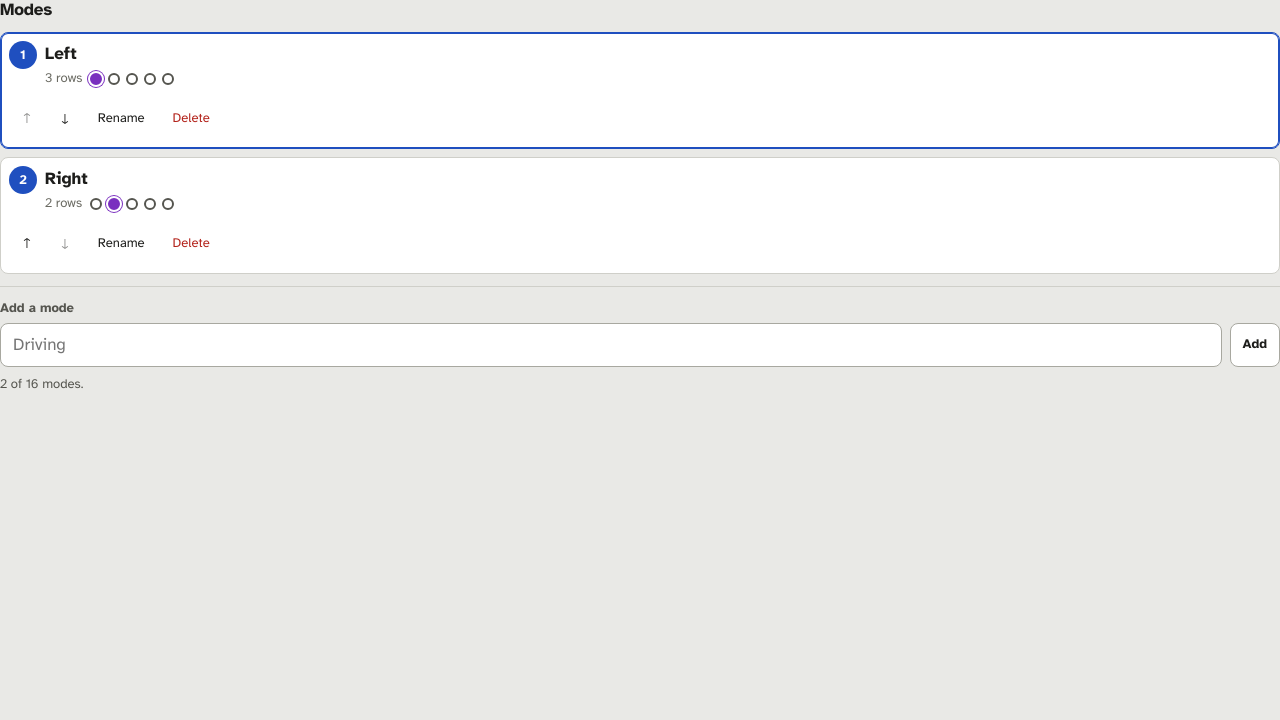
Test: ModeRail › asks before deleting a mode, and deletes only on the confirm
Click the 1st button "Delete" at (191, 118), box x1=160 y1=96 x2=223 y2=140
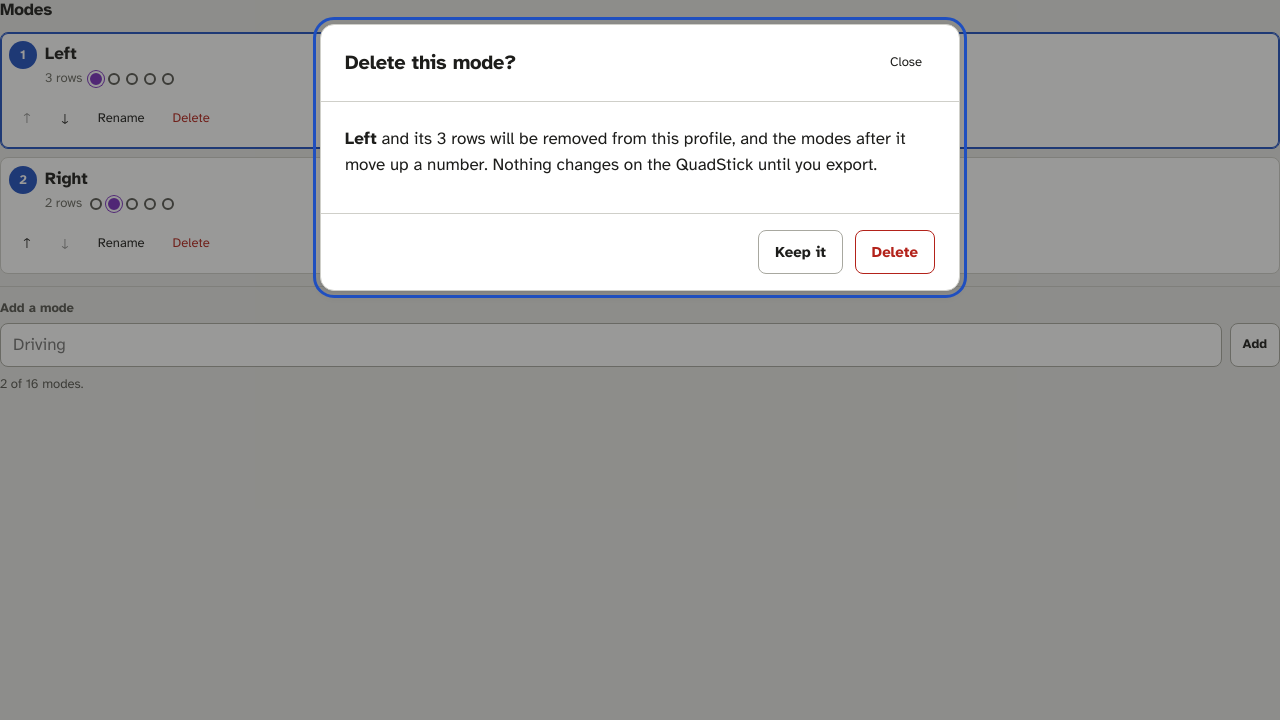
expect the dialog is shown: met, box x1=320 y1=24 x2=960 y2=291
expect the dialog shows "Left": met, box x1=345 y1=128 x2=377 y2=149
expect the dialog shows "3 rows": met, box x1=345 y1=128 x2=906 y2=174
Click the button "Delete" at (895, 252), box x1=855 y1=230 x2=935 y2=274
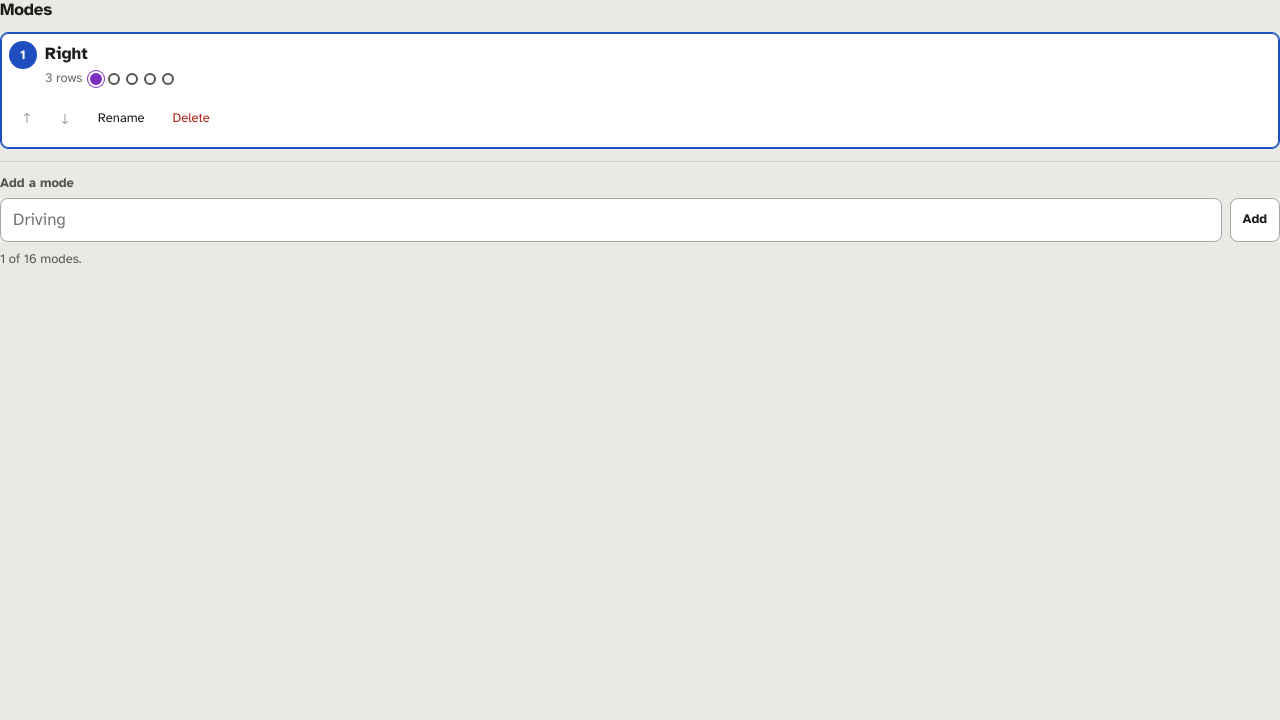
expect the dialog is gone: met
